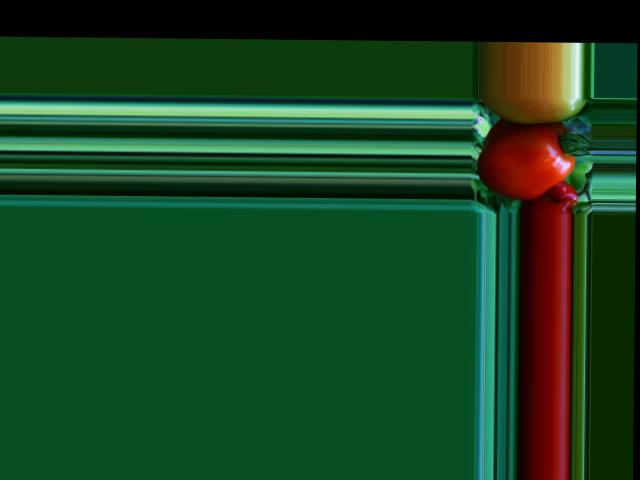tomato: (477, 122, 575, 200)
